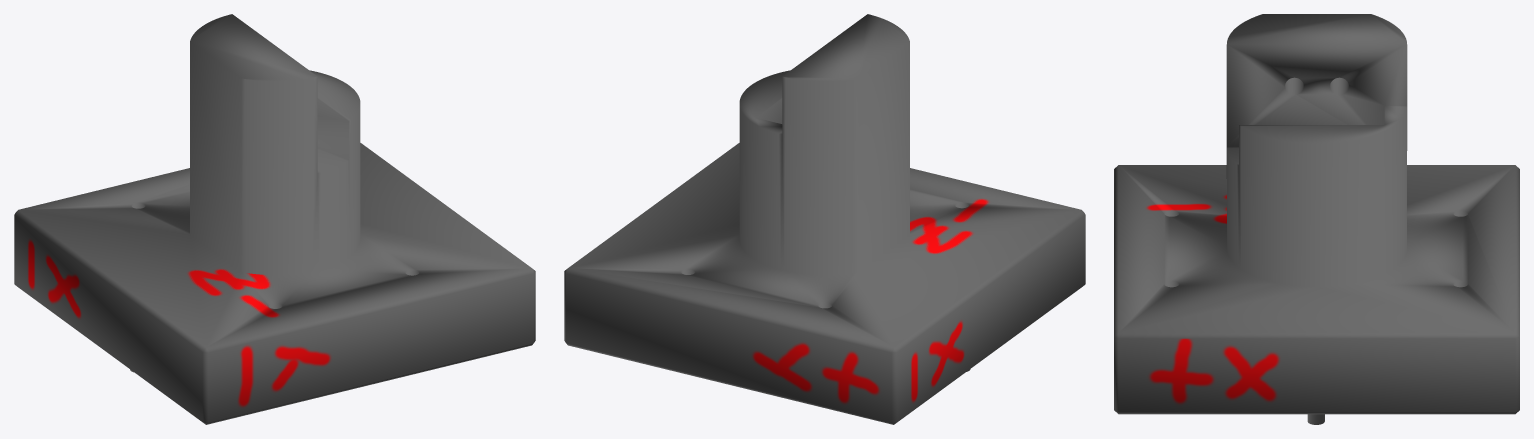
Rendered from Dummy3.fbx.
3 views of the same model, side by side, from view 1: azimuth 30°, elevation 25°; view 2: azimuth 150°, elevation 25°; view 3: azimuth 270°, elevation 25° (orthographic). The views are drawn at different scales.
Visible parts, largest first — view 1: obj_000012; view 2: obj_000012; view 3: obj_000012.
Boxes of the visible parts, <box> form: obj_000012: <box>14,14,535,424</box>; obj_000012: <box>564,14,1085,424</box>; obj_000012: <box>1114,14,1519,424</box>.
Size of the model in its own units: 9000 by 7500 by 9000.
